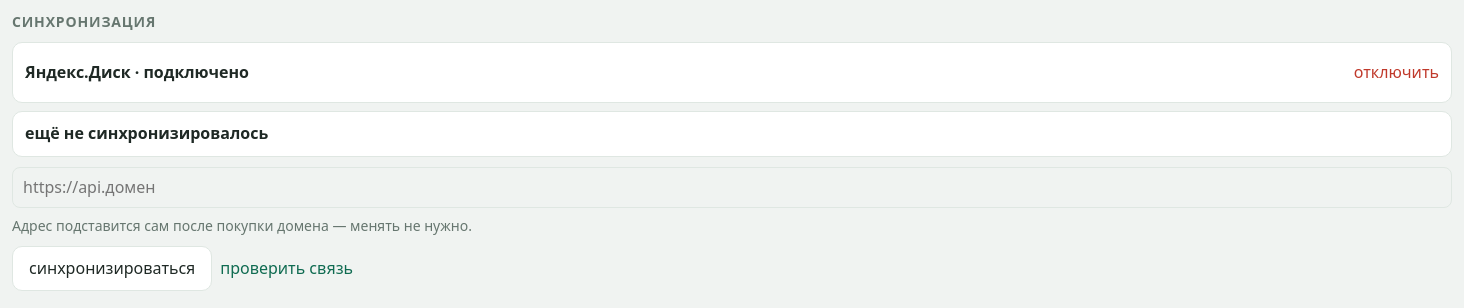
Test case: отключить забывает токен и возвращает кнопку подключения
Click the button "отключить" at (1396, 73), box x1=1354 y1=53 x2=1439 y2=92
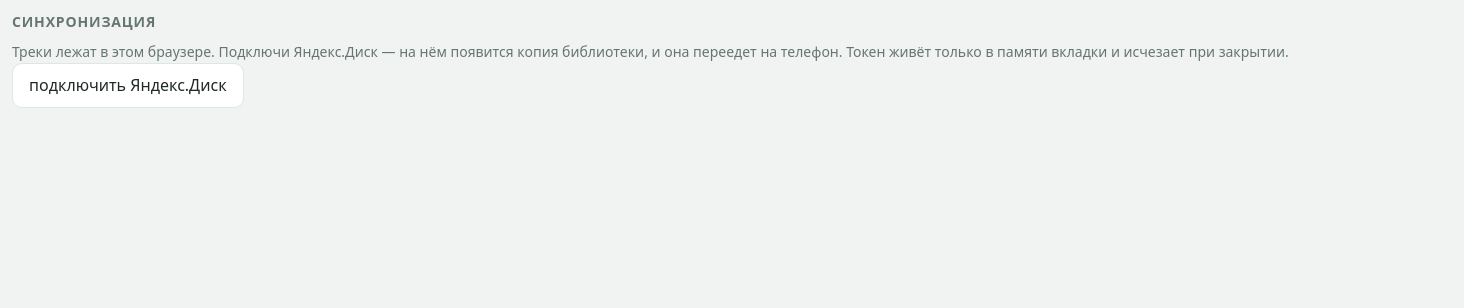
Now the button "подключить Яндекс.Диск" is shown, box x1=12 y1=63 x2=244 y2=108
